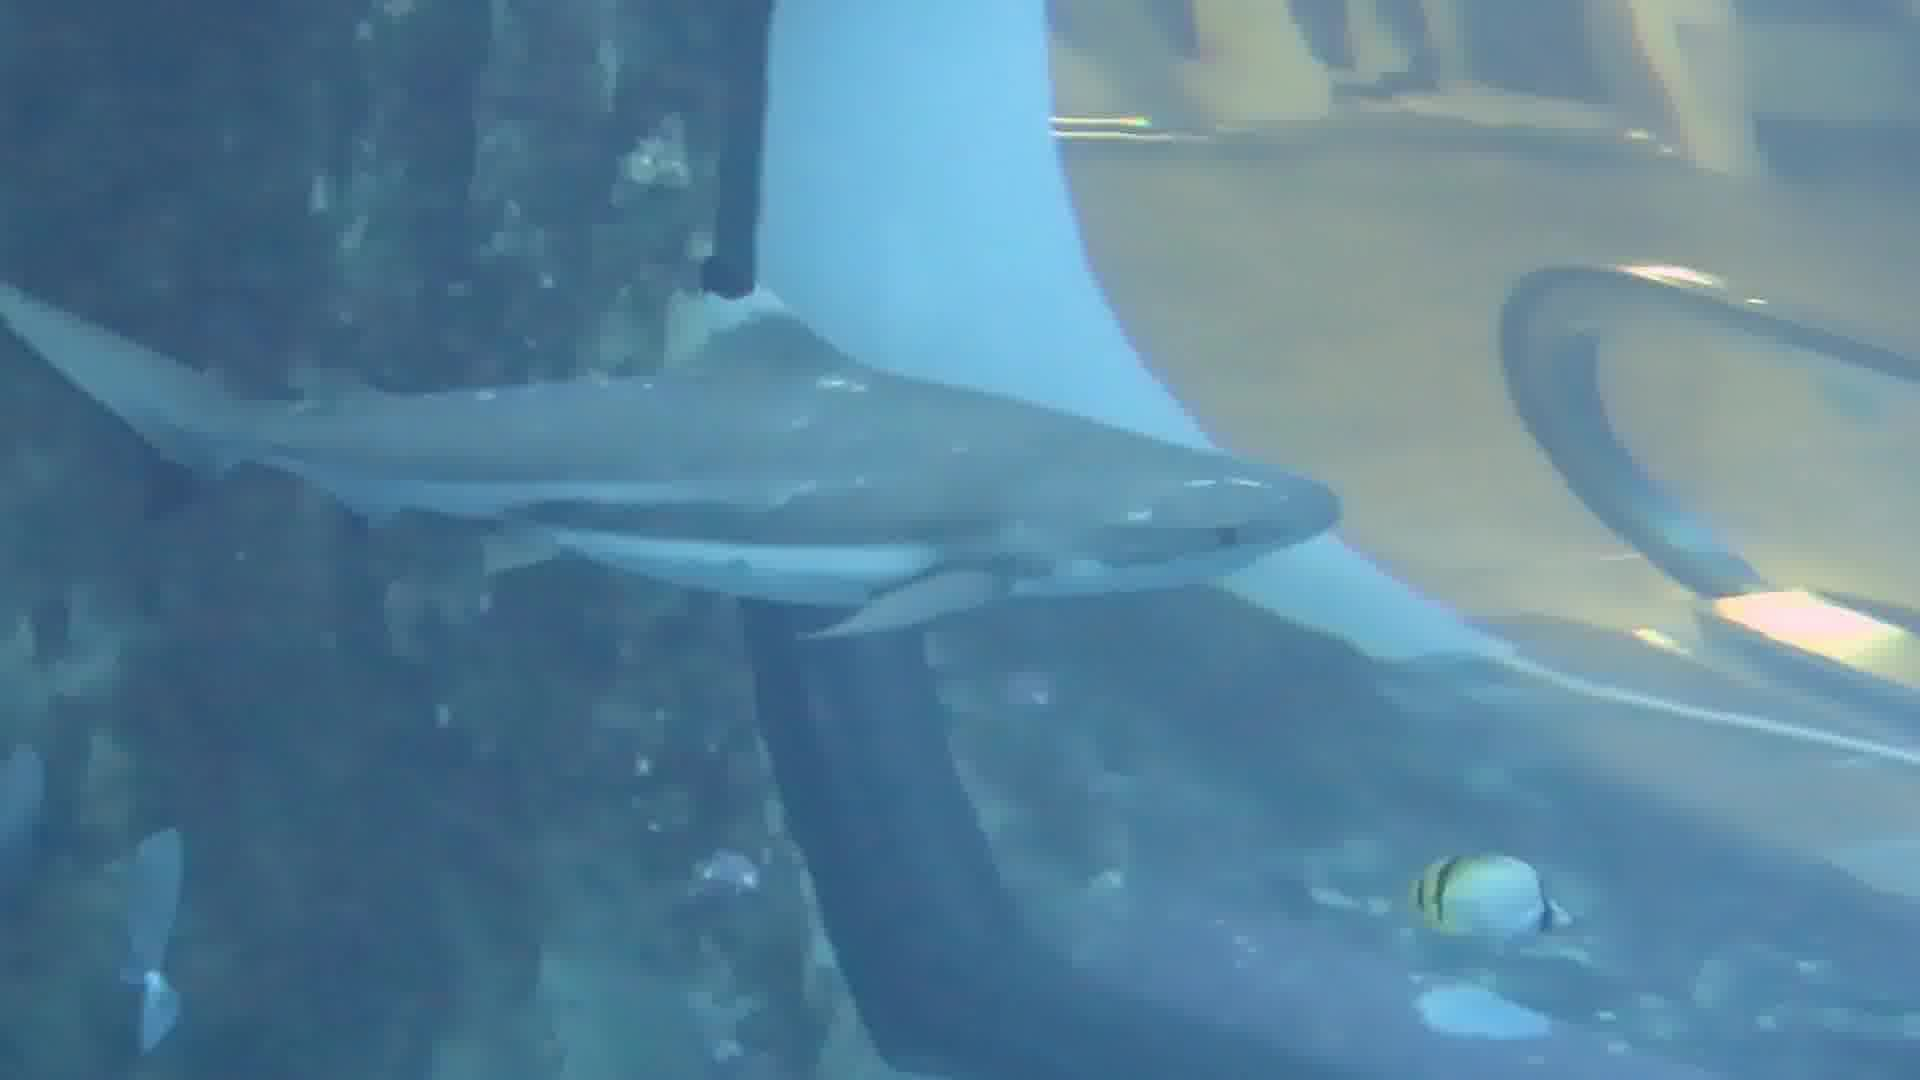Carcharhinus melanopterus: (17, 212, 1321, 663)
